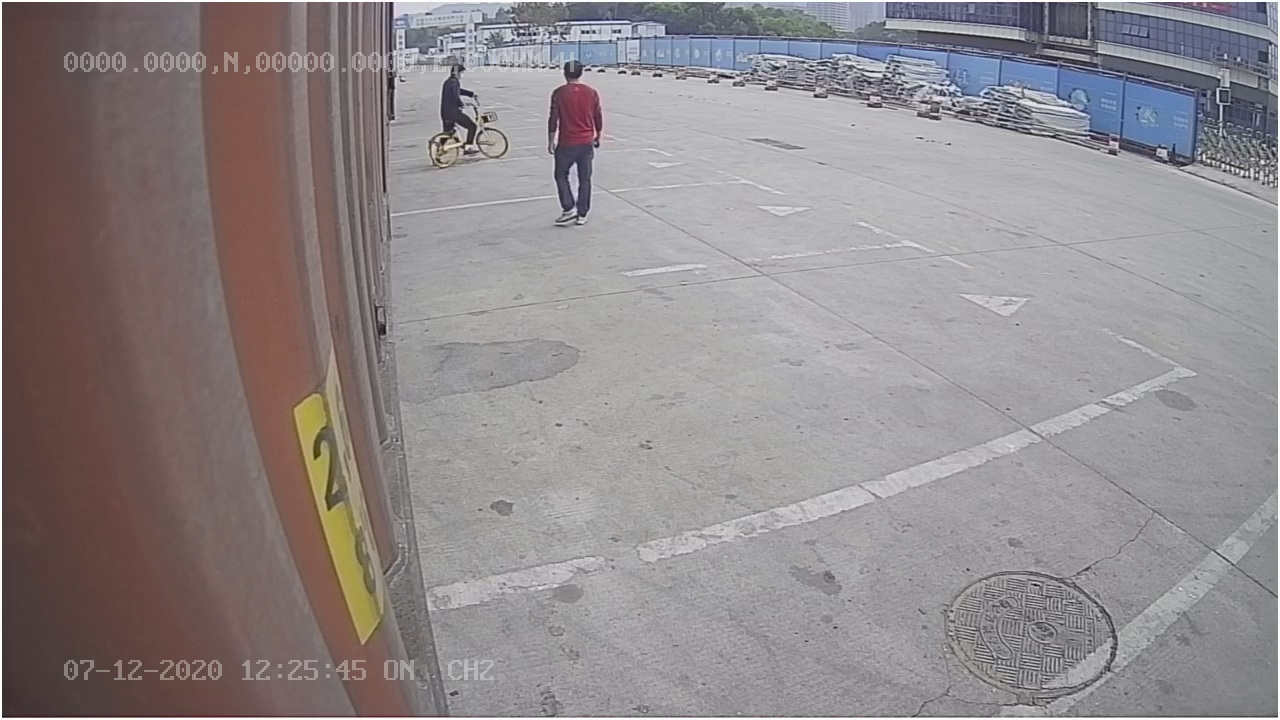person: (542, 58, 609, 234)
